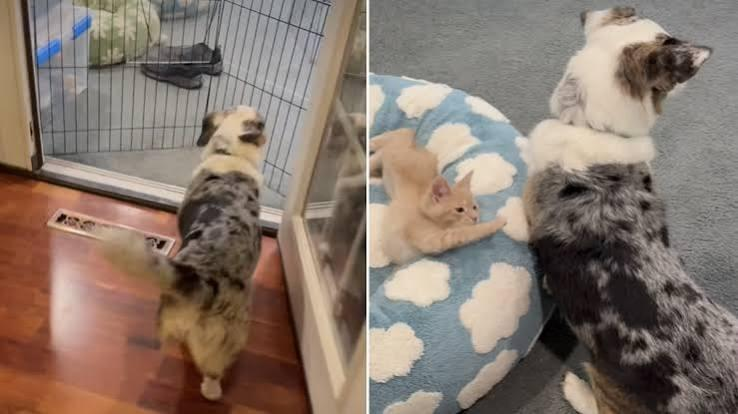adult_dog: (523, 6, 738, 414), (100, 104, 269, 402)
non-dog: (371, 127, 506, 271)
